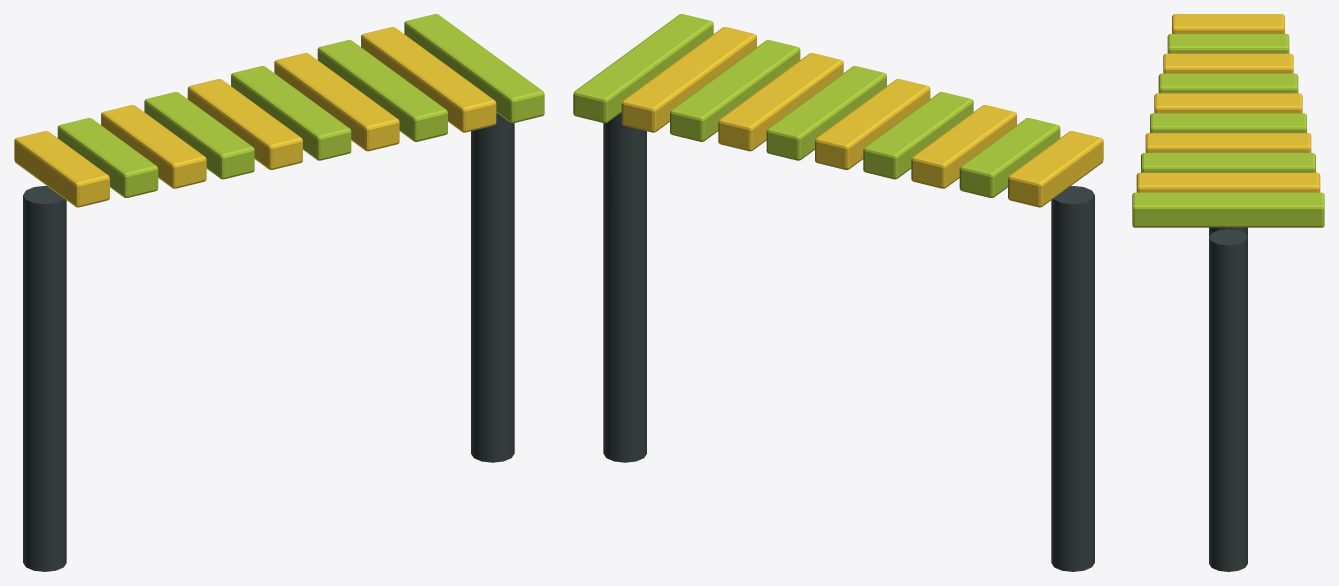
File: valade-musical-garden.glb
3 views of the same model, side by side, from view 1: azimuth 30°, elevation 25°; view 2: azimuth 150°, elevation 25°; view 3: azimuth 270°, elevation 25° (orthographic). The views are drawn at different scales.
Parts seen in each view (by area): view 1: Musical instrument support, Garden chime bar.001, Garden chime bar; view 2: Musical instrument support, Garden chime bar.001, Garden chime bar; view 3: Garden chime bar.001, Garden chime bar, Musical instrument support.
Boxes of the visible parts, <box> form: Musical instrument support: <box>23,112,514,571</box>; Garden chime bar.001: <box>57,14,544,197</box>; Garden chime bar: <box>14,27,496,207</box>; Musical instrument support: <box>603,112,1094,571</box>; Garden chime bar.001: <box>573,14,1060,197</box>; Garden chime bar: <box>621,27,1103,207</box>; Garden chime bar.001: <box>1132,34,1324,227</box>; Garden chime bar: <box>1136,14,1320,192</box>; Musical instrument support: <box>1209,227,1247,571</box>.
Bounding box in the file's own units: 1.41 × 1.12 × 0.545.
